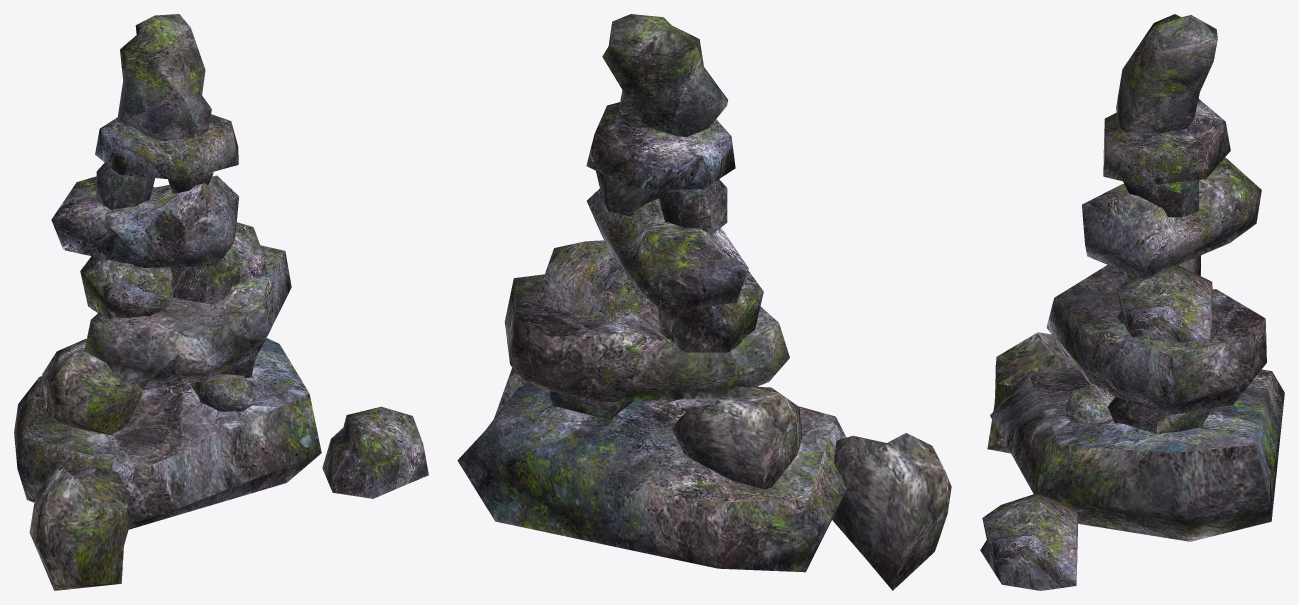
File: cairn_02_01_re.fbx
3 renders of one model, left to right at view 1: azimuth 30°, elevation 25°; view 2: azimuth 150°, elevation 25°; view 3: azimuth 270°, elevation 25°, orthographic. The views are drawn at different scales.
Visible parts, largest first — view 1: cairn_02_01; view 2: cairn_02_01; view 3: cairn_02_01.
Part boxes in pixels (x1,y1,x2,y2): cairn_02_01: (14,14,428,590); cairn_02_01: (457,14,951,590); cairn_02_01: (980,14,1284,590).
Bounding box in the file's own units: 18.07 × 22.17 × 11.51.
